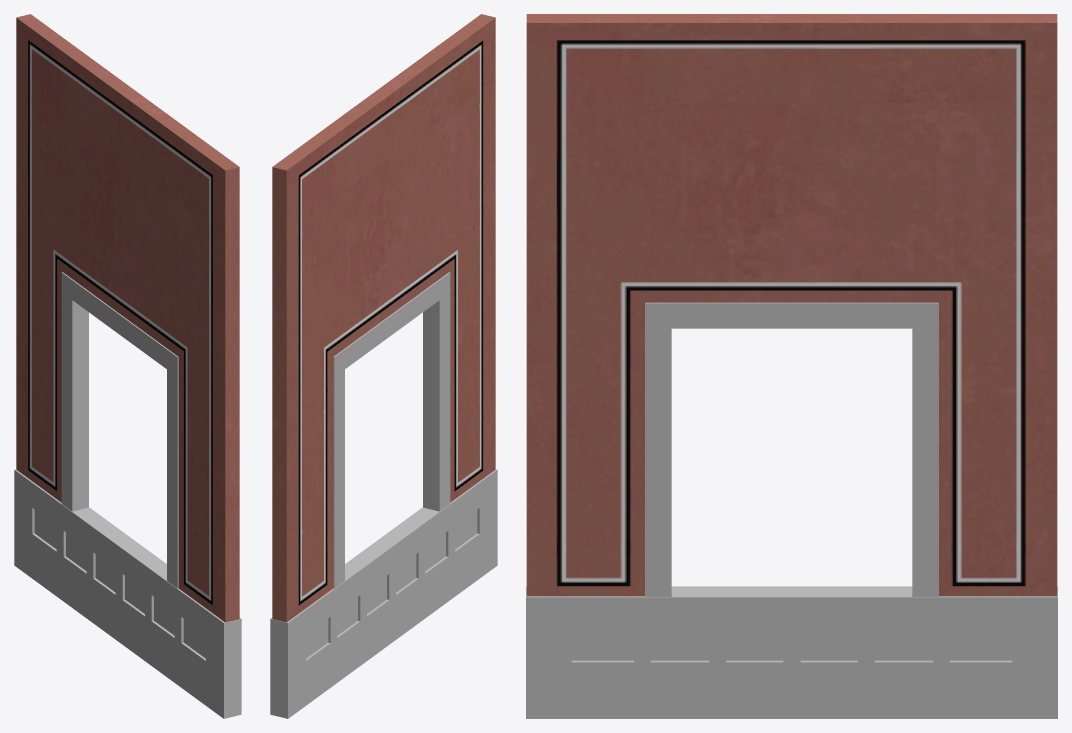
Rendered from SM_Wall04H.fbx.
3 views of the same model, side by side, from view 1: azimuth 30°, elevation 25°; view 2: azimuth 150°, elevation 25°; view 3: azimuth 270°, elevation 25° (orthographic). The views are drawn at different scales.
Visible parts, largest first — view 1: SM_Wall04H; view 2: SM_Wall04H; view 3: SM_Wall04H.
Boxes of the visible parts, x1,y1,x2,y2 form: SM_Wall04H: [14, 14, 241, 718]; SM_Wall04H: [270, 14, 497, 718]; SM_Wall04H: [526, 14, 1057, 718].
Size of the model in its own units: 12 by 246 by 354.
